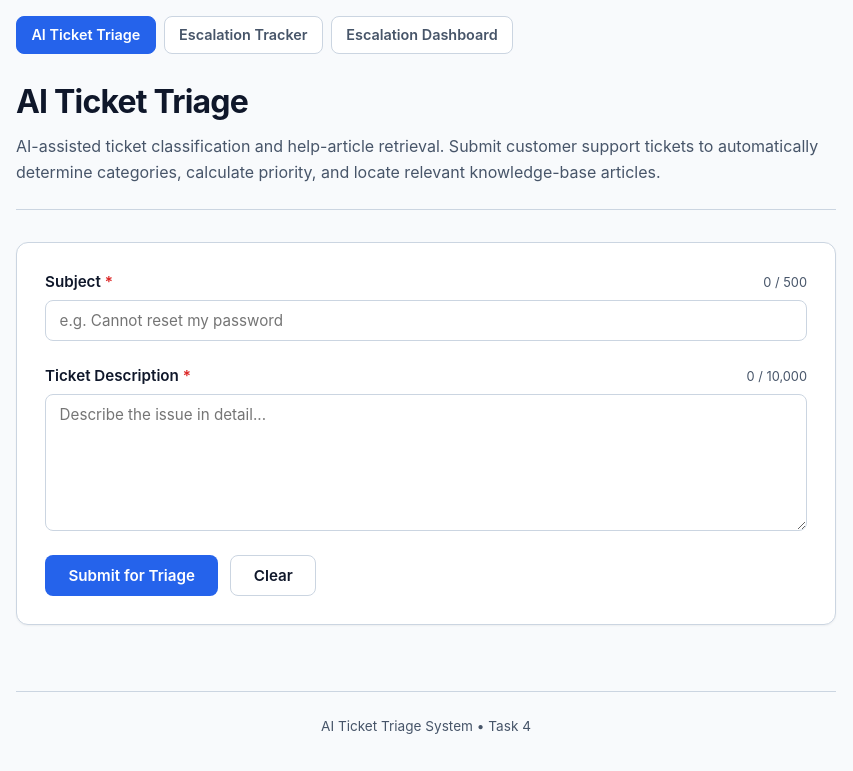
Test: Error messages from the backend › shows the triage 500 message with the error ID
This screenshot has width=853, height=771.
In the field labelled "Subject *": (426, 320) [45,300,807,341], type "Cannot log in"
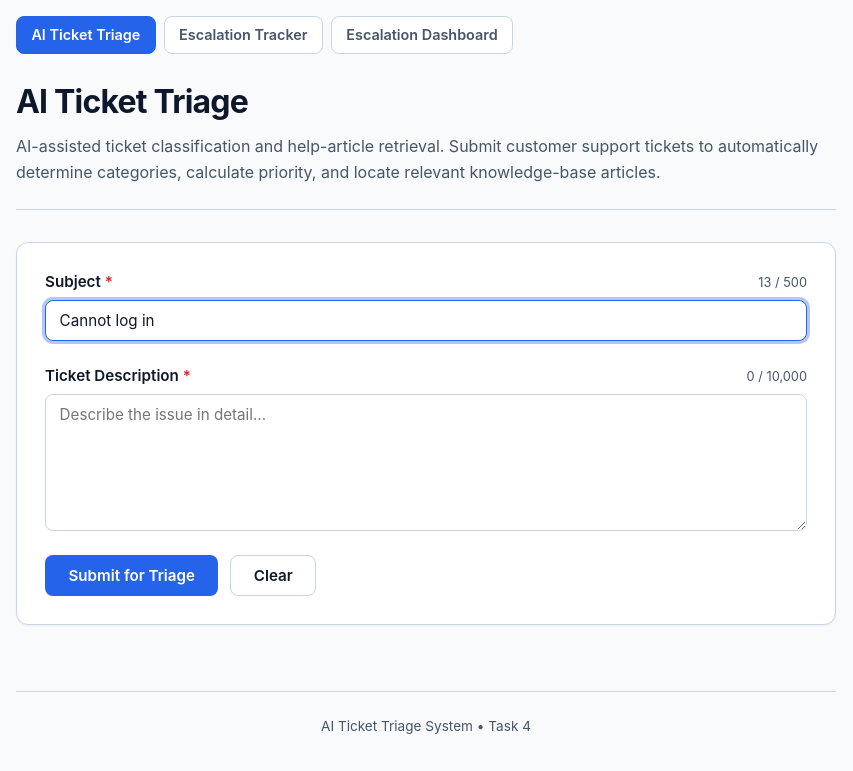
In the text box labelled "Ticket Description *": (426, 462) [45,394,807,530], type "Reset email never arrives"
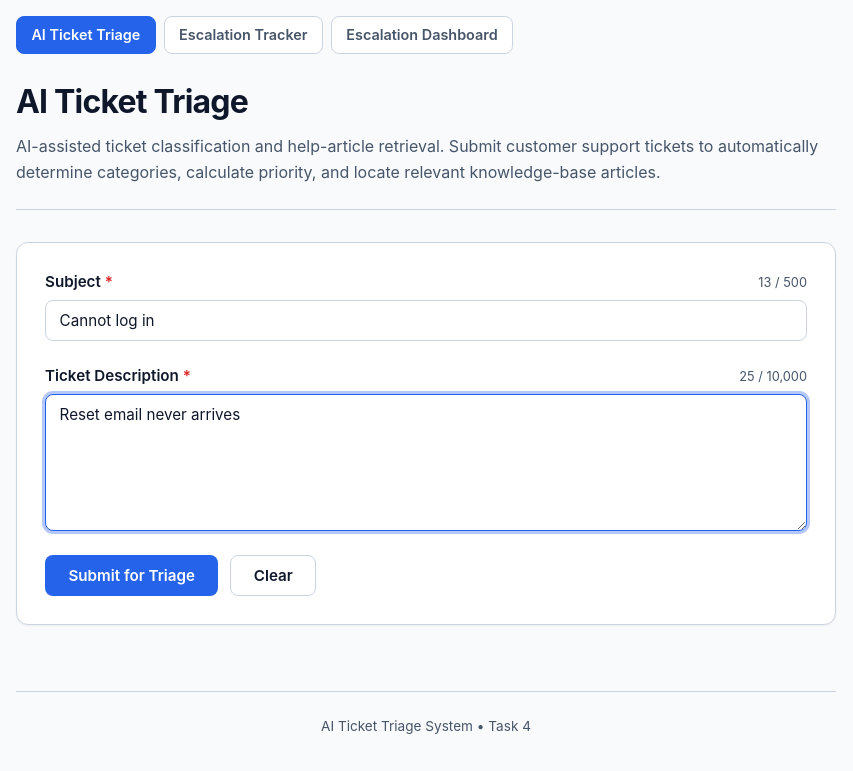
Click the button "Submit for Triage": (132, 575) [45,554,218,596]
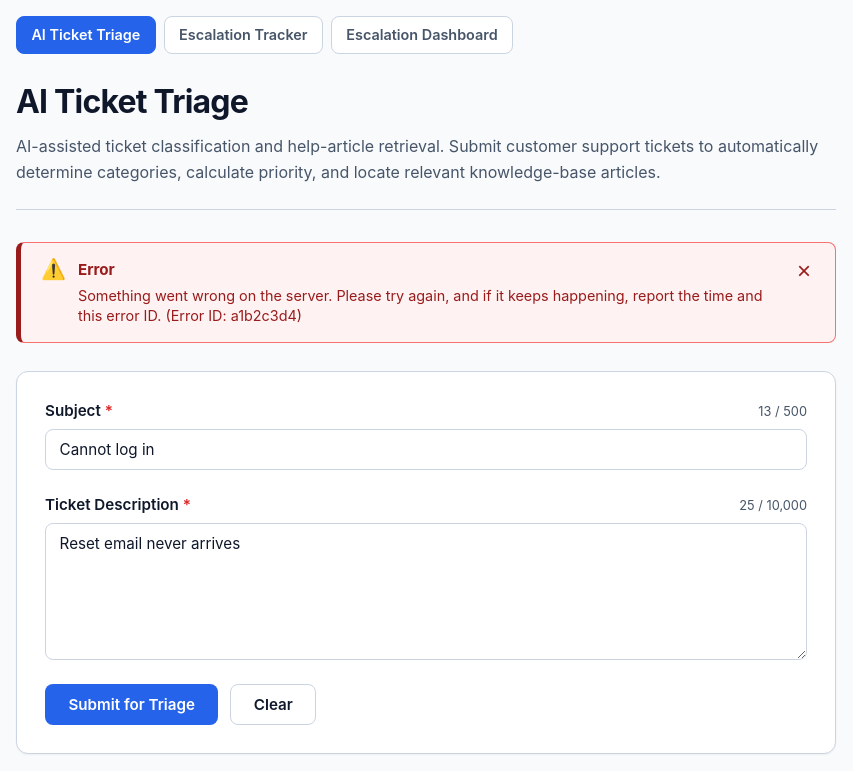
Result: the message shows "(Error ID: a1b2c3d4)" at [78,287,763,324]
